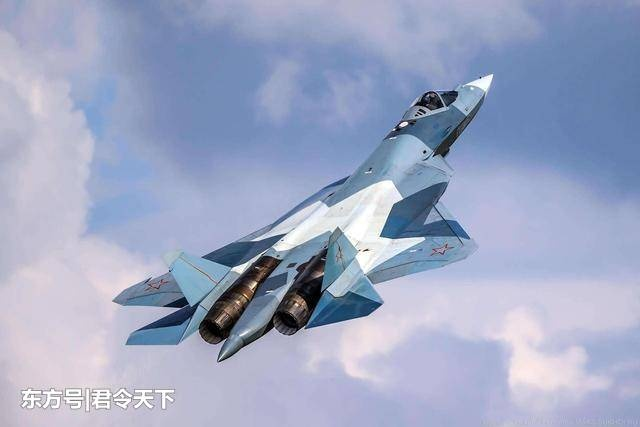airplane: (111, 69, 501, 360)
